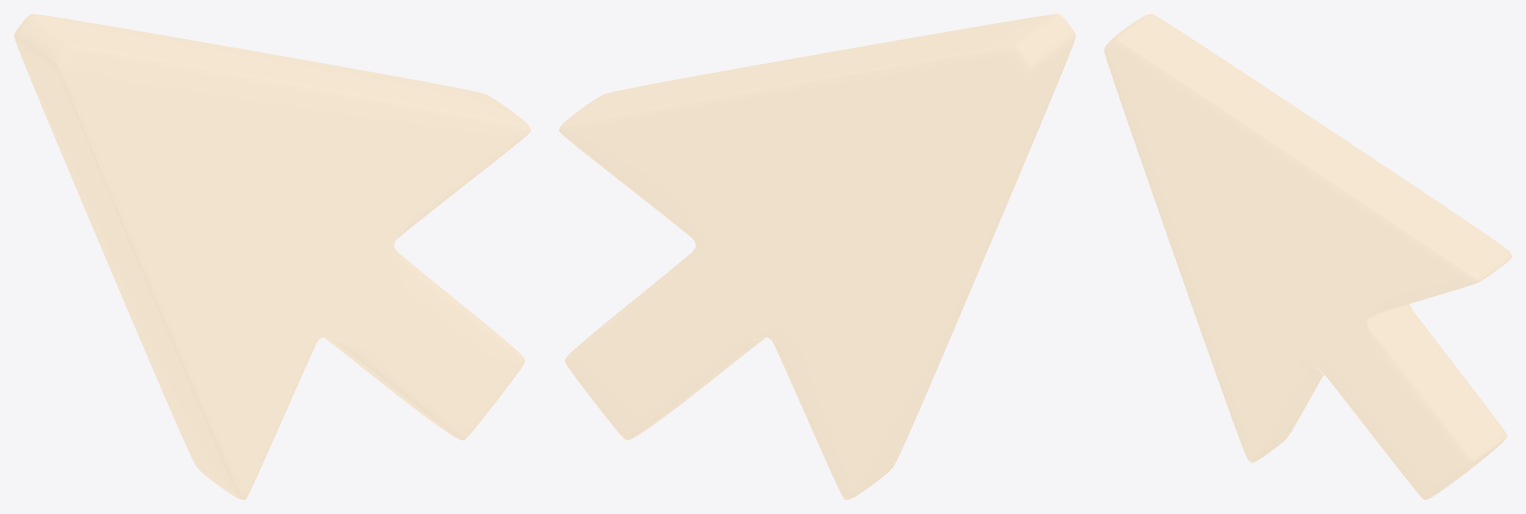
Rendered from cursor.glb.
3 views of the same model, side by side, from view 1: azimuth 30°, elevation 25°; view 2: azimuth 150°, elevation 25°; view 3: azimuth 330°, elevation 25° (orthographic). The views are drawn at different scales.
Visible parts, largest first — view 1: 平面.001; view 2: 平面.001; view 3: 平面.001.
Part boxes in pixels (x1,y1,x2,y2): 平面.001: [14, 14, 530, 499]; 平面.001: [559, 14, 1075, 499]; 平面.001: [1104, 14, 1511, 499].
Size of the model in its own units: 1.96 by 1.96 by 0.3508.
